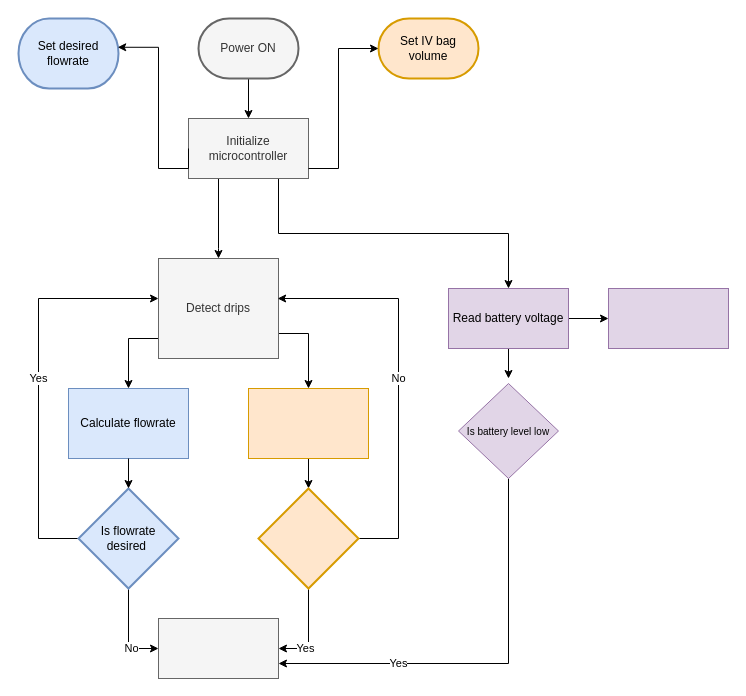
This 746x696 diagram has some shape labels left out. Each missing label, with the box of its shape:
Alarm: (158, 618, 278, 678)
Calculate remaining IV bag volume: (248, 388, 368, 458)
Indicate battery level: (608, 288, 728, 348)
Is IV bag near empty: (257, 487, 359, 589)
